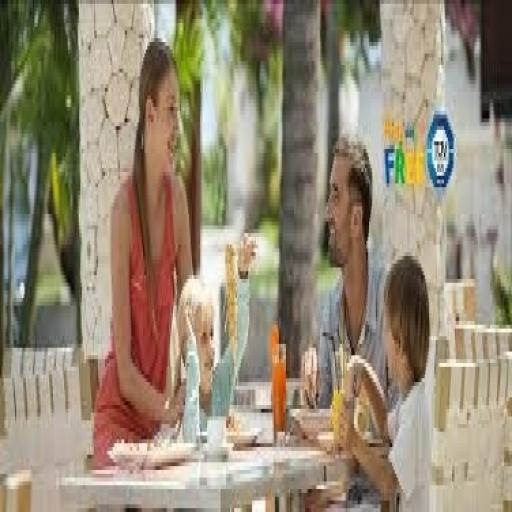eating: (91, 34, 259, 466), (332, 248, 434, 508)
